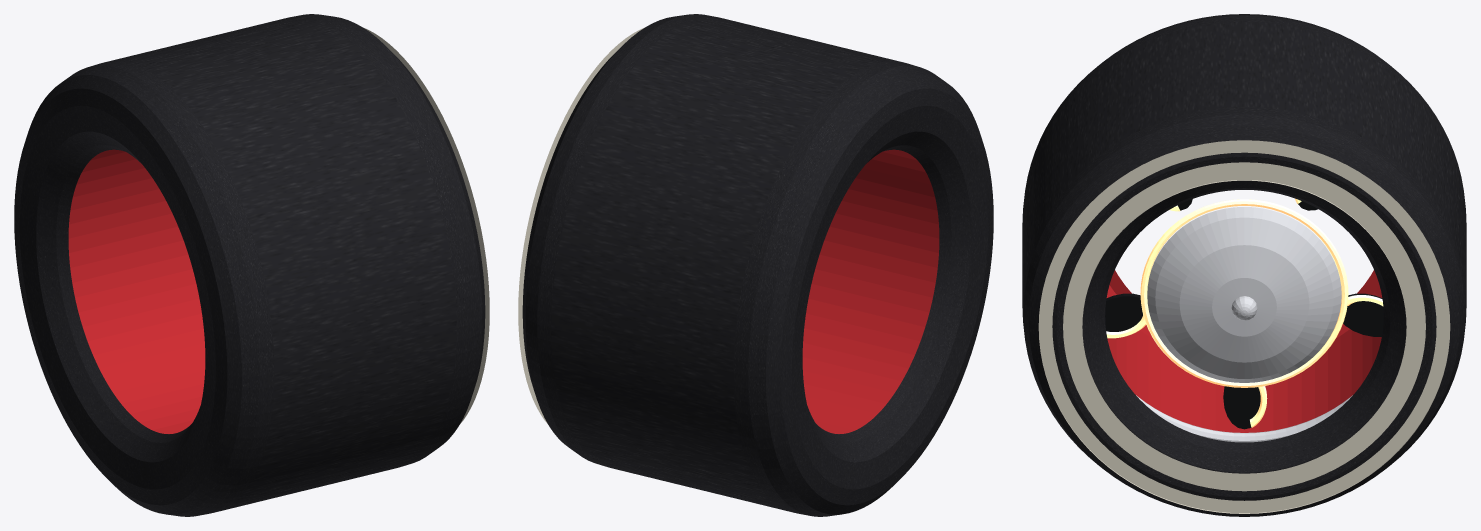
The model's file is tyre-steelie.glb.
The picture shows the model from 3 angles, left to right: view 1: azimuth 30°, elevation 25°; view 2: azimuth 150°, elevation 25°; view 3: azimuth 270°, elevation 25°; orthographic projection. The views are drawn at different scales.
Parts seen in each view (by area): view 1: Tyre_Rubber, Rim, WhiteWall; view 2: Tyre_Rubber, Rim, WhiteWall; view 3: Tyre_Rubber, WhiteWall, Chrome, Rim, LED_Ring, Hub.
Part boxes in pixels (left/top/right/bottom): Tyre_Rubber: left=14, top=14, right=485, bottom=516; Rim: left=68, top=149, right=205, bottom=433; WhiteWall: left=363, top=27, right=489, bottom=423; Tyre_Rubber: left=522, top=14, right=993, bottom=516; Rim: left=802, top=149, right=939, bottom=433; WhiteWall: left=518, top=27, right=644, bottom=423; Tyre_Rubber: left=1022, top=14, right=1466, bottom=516; WhiteWall: left=1038, top=140, right=1450, bottom=513; Chrome: left=1136, top=207, right=1352, bottom=442; Rim: left=1106, top=270, right=1382, bottom=432; LED_Ring: left=1140, top=199, right=1348, bottom=387; Hub: left=1105, top=199, right=1383, bottom=429.
Size of the model in its own units: 0.1805 by 0.274 by 0.274.
Materials: 11 (1 with a texture image).
